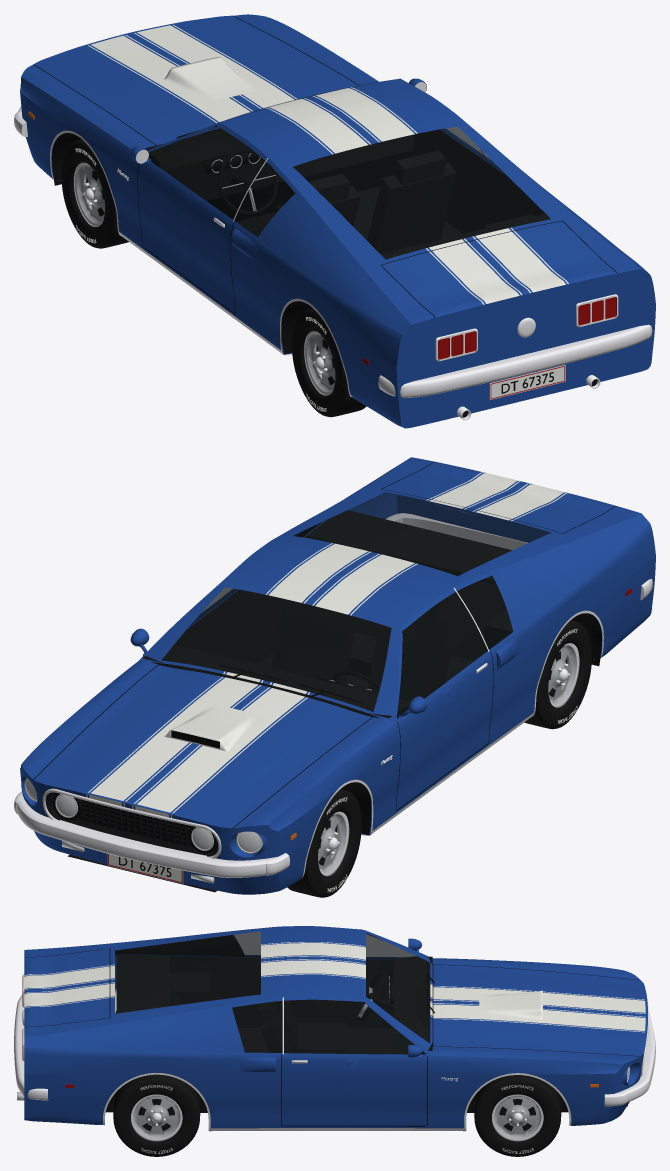
Rendered from Mustang1969.glb.
3 views of the same model, one above another, from view 1: azimuth 30°, elevation 25°; view 2: azimuth 150°, elevation 25°; view 3: azimuth 270°, elevation 25° (orthographic). The views are drawn at different scales.
Visible parts, largest first — view 1: Body_1, Body_2, Glass, Interior, Stripes, Bumpers, Trim_Chrome, Tire_LR, Tire_LF, Trim_Black, Underbody, Lamps_Red (+4 smaller); view 2: Body_2, Body_1, Glass, Interior, Stripes, Bumpers, Grille, Tire_LF, Trim_Chrome, Tire_LR, Trim_Black, PanelGaps (+6 smaller); view 3: Body_1, Body_2, Glass, Interior, Stripes, Tire_RR, Tire_RF, Trim_Chrome, Bumpers, Trim_Black, Rim_RF, Rim_RR (+4 smaller).
Part boxes in pixels (<box>): Body_1: <box>184,83,655,428</box>; Body_2: <box>20,14,450,284</box>; Glass: <box>148,84,550,259</box>; Interior: <box>145,129,550,387</box>; Stripes: <box>88,24,568,304</box>; Bumpers: <box>14,106,652,398</box>; Trim_Chrome: <box>50,82,618,420</box>; Tire_LR: <box>291,308,366,417</box>; Tire_LF: <box>61,139,128,248</box>; Trim_Black: <box>176,125,553,393</box>; Underbody: <box>51,133,597,417</box>; Lamps_Red: <box>362,297,616,365</box>; Body_2: <box>20,573,452,894</box>; Body_1: <box>190,457,655,777</box>; Glass: <box>162,492,550,718</box>; Interior: <box>143,510,592,804</box>; Stripes: <box>86,472,568,817</box>; Bumpers: <box>14,513,652,877</box>; Grille: <box>45,792,218,856</box>; Tire_LF: <box>287,789,361,897</box>; Trim_Chrome: <box>24,587,603,878</box>; Tire_LR: <box>524,620,591,729</box>; Trim_Black: <box>119,653,497,876</box>; PanelGaps: <box>33,461,616,851</box>; Body_1: <box>24,926,354,1131</box>; Body_2: <box>343,928,647,1131</box>; Glass: <box>115,931,429,1054</box>; Interior: <box>115,933,432,1054</box>; Stripes: <box>24,942,645,1032</box>; Tire_RR: <box>113,1074,200,1156</box>; Tire_RF: <box>474,1075,561,1156</box>; Trim_Chrome: <box>17,974,648,1131</box>; Bumpers: <box>14,995,655,1106</box>; Trim_Black: <box>357,963,434,1046</box>; Rim_RF: <box>494,1096,541,1138</box>; Rim_RR: <box>133,1096,180,1138</box>.
Size of the model in its own units: 7.18 by 4.58 by 17.42.
